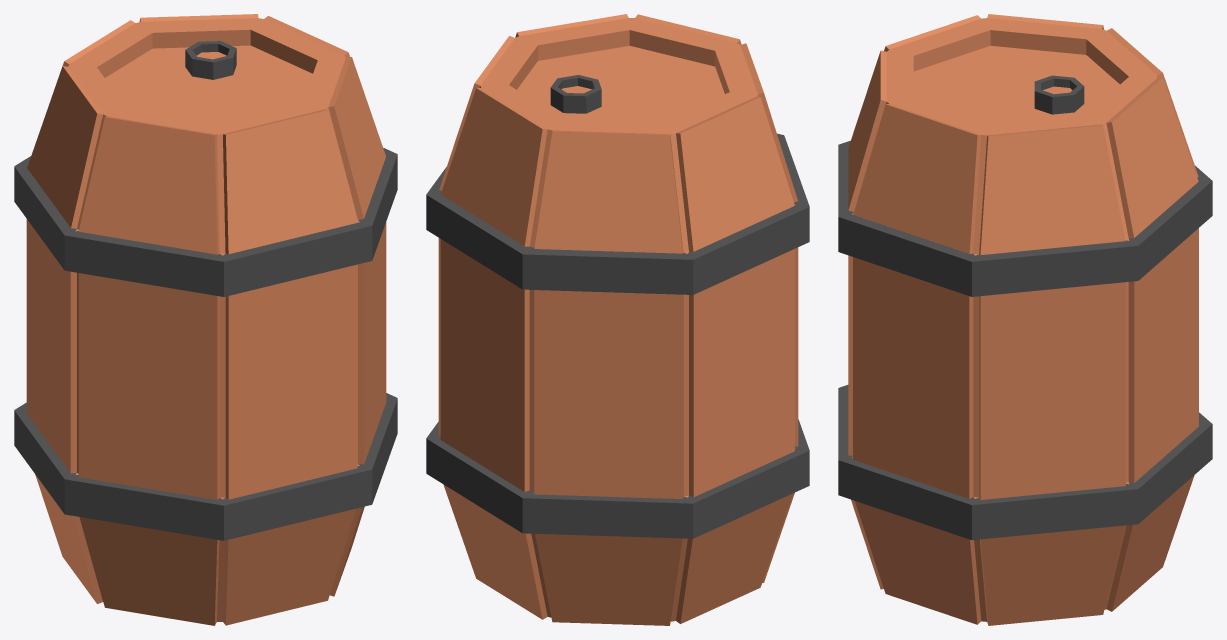
The model's file is Barrel.fbx.
3 views of the same model, side by side, from view 1: azimuth 30°, elevation 25°; view 2: azimuth 150°, elevation 25°; view 3: azimuth 270°, elevation 25° (orthographic).
Parts seen in each view (by area): view 1: Barrel LOD_0; view 2: Barrel LOD_0; view 3: Barrel LOD_0.
Part boxes in pixels (left/top/right/bottom): Barrel LOD_0: left=14, top=14, right=397, bottom=625; Barrel LOD_0: left=426, top=14, right=809, bottom=625; Barrel LOD_0: left=838, top=14, right=1212, bottom=625.
Size of what is drawn, in the model's own units: 214 by 302 by 209.
